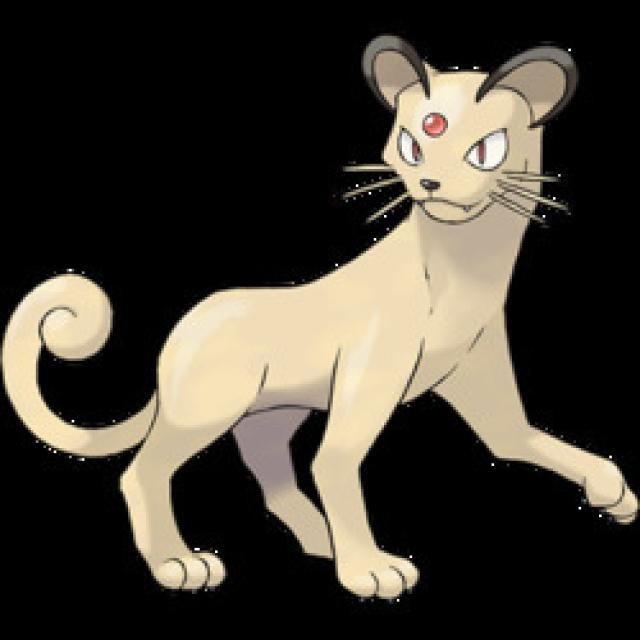Persian: (120, 34, 581, 582)
